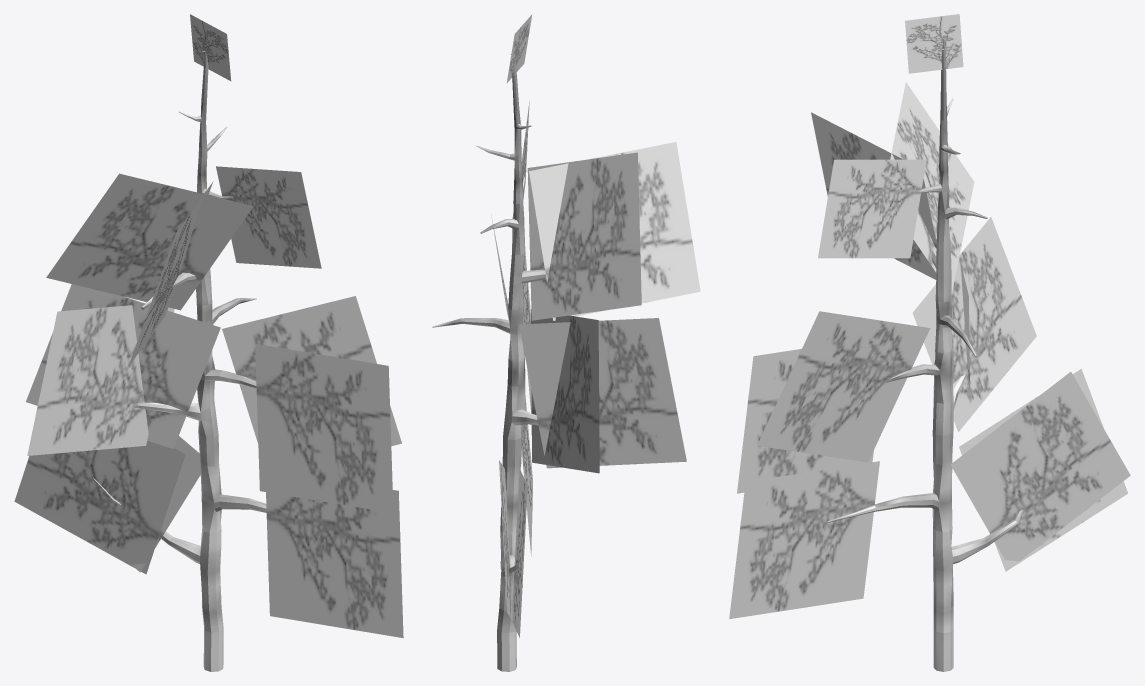
File: ArbolFlaco.fbx
3 views of the same model, side by side, from view 1: azimuth 30°, elevation 25°; view 2: azimuth 150°, elevation 25°; view 3: azimuth 270°, elevation 25° (orthographic).
Parts seen in each view (by area): view 1: Left, Right, Tallo; view 2: Left, Tallo, Right; view 3: Right, Left, Tallo.
Part boxes in pixels (x1,y1,x2,y2): Left: [14, 173, 253, 574]; Right: [190, 14, 403, 638]; Tallo: [93, 45, 266, 671]; Left: [499, 142, 700, 637]; Tallo: [432, 52, 546, 671]; Right: [491, 14, 533, 556]; Right: [729, 14, 963, 619]; Left: [811, 82, 1130, 571]; Tallo: [827, 38, 1023, 671].
Size of the model in its own units: 4.13 by 9.22 by 5.2.
1 material, 1 textured.
